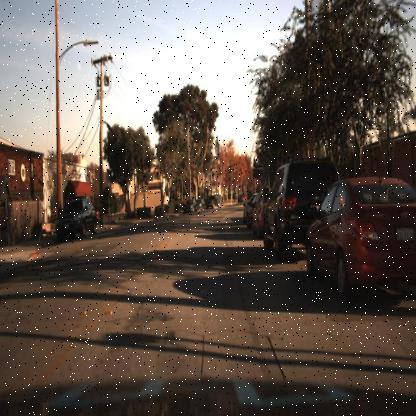car: (306, 174, 415, 302), (260, 152, 342, 260), (262, 158, 308, 265), (50, 190, 100, 246), (250, 186, 268, 239), (205, 190, 225, 212), (181, 196, 199, 217), (195, 195, 207, 214)
